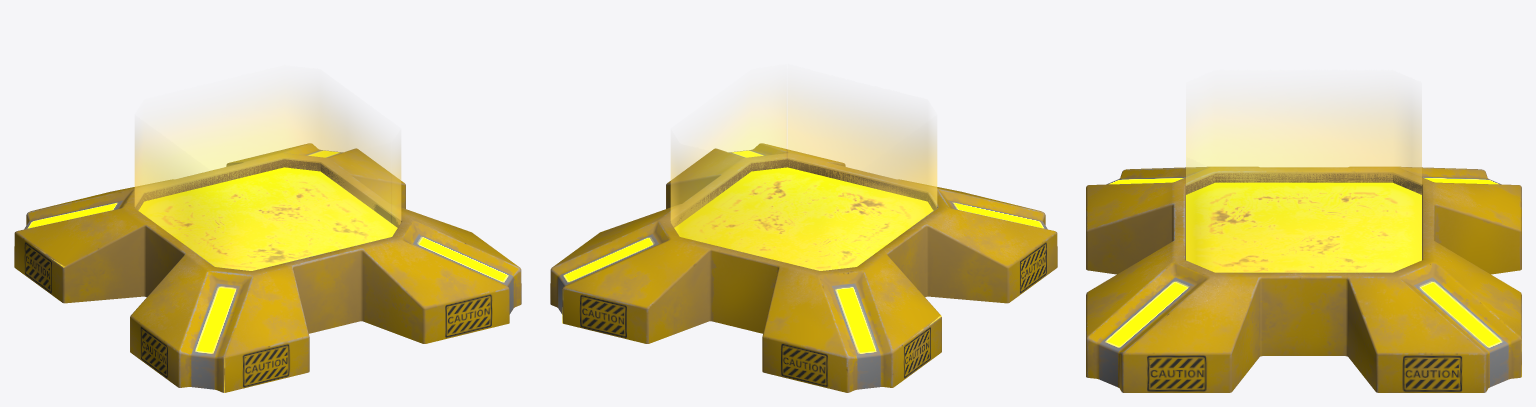
3 renders of one model, left to right at view 1: azimuth 30°, elevation 25°; view 2: azimuth 150°, elevation 25°; view 3: azimuth 270°, elevation 25°, orthographic. The views are drawn at different scales.
Visible parts, largest first — view 1: JumpPad, JumpPadBeam; view 2: JumpPad, JumpPadBeam; view 3: JumpPad, JumpPadBeam.
Boxes of the visible parts, x1,y1,x2,y2 form: JumpPad: [14, 143, 521, 392]; JumpPadBeam: [134, 89, 401, 270]; JumpPad: [550, 143, 1057, 392]; JumpPadBeam: [670, 88, 937, 270]; JumpPad: [1086, 166, 1521, 392]; JumpPadBeam: [1186, 96, 1421, 272].
Bounding box in the file's own units: 1 × 0.6 × 1.
Materials: 2 (2 with a texture image).
